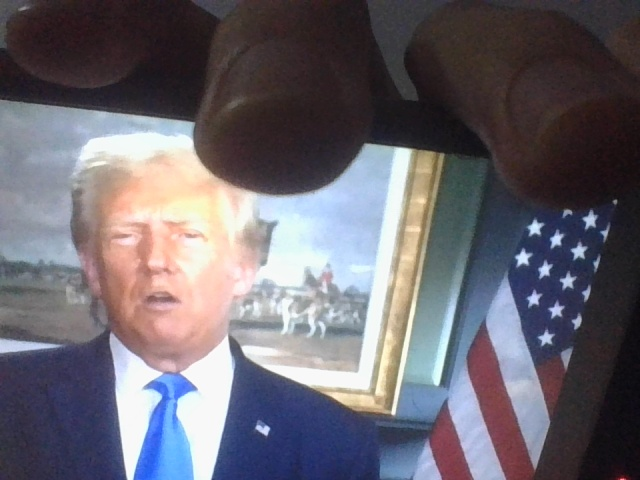fake: (89, 127, 252, 358)
